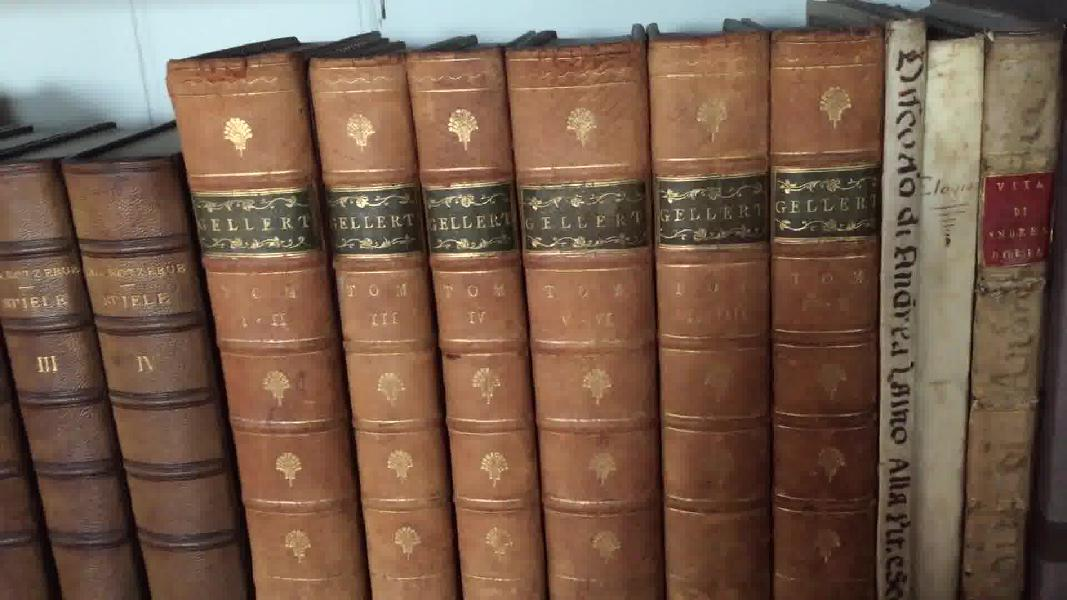Aa6-18_23: (156, 19, 883, 594)
Aa6-24: (866, 7, 920, 600)
Aa6-25: (912, 27, 979, 600)
Aa6-26: (958, 10, 1067, 600)
